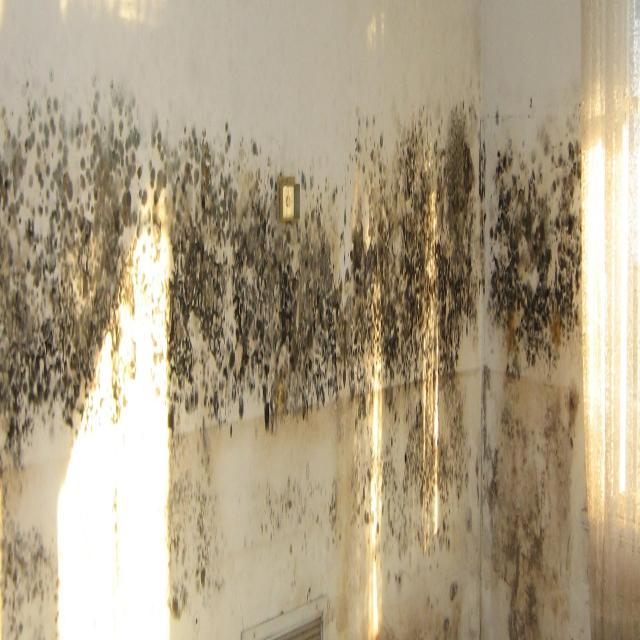stain_mould: (0, 81, 593, 639)
